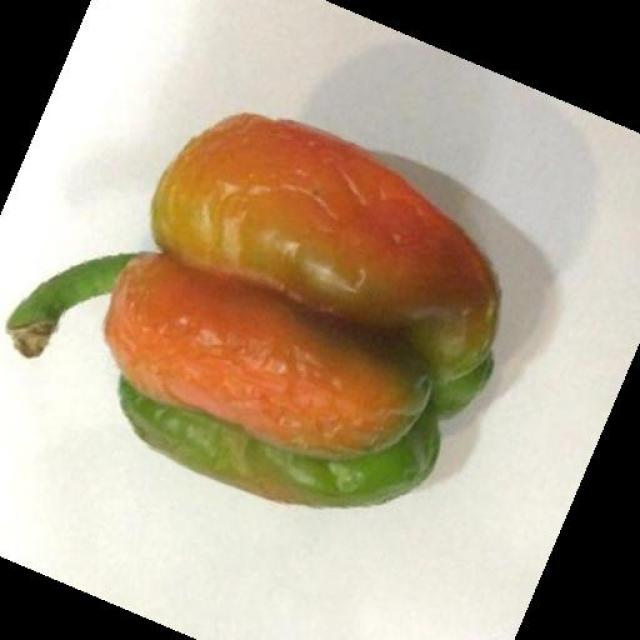Stale_Capsicum: (112, 114, 490, 505)
